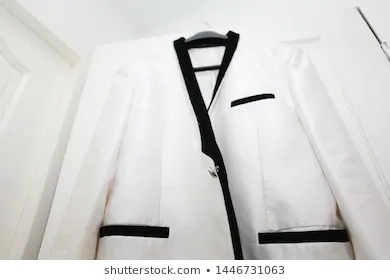F_M_suit jacket: (47, 28, 390, 259)
